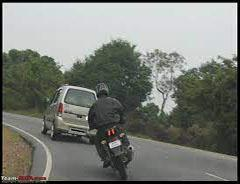car: (35, 78, 99, 142)
motorcycle: (88, 113, 146, 177)
